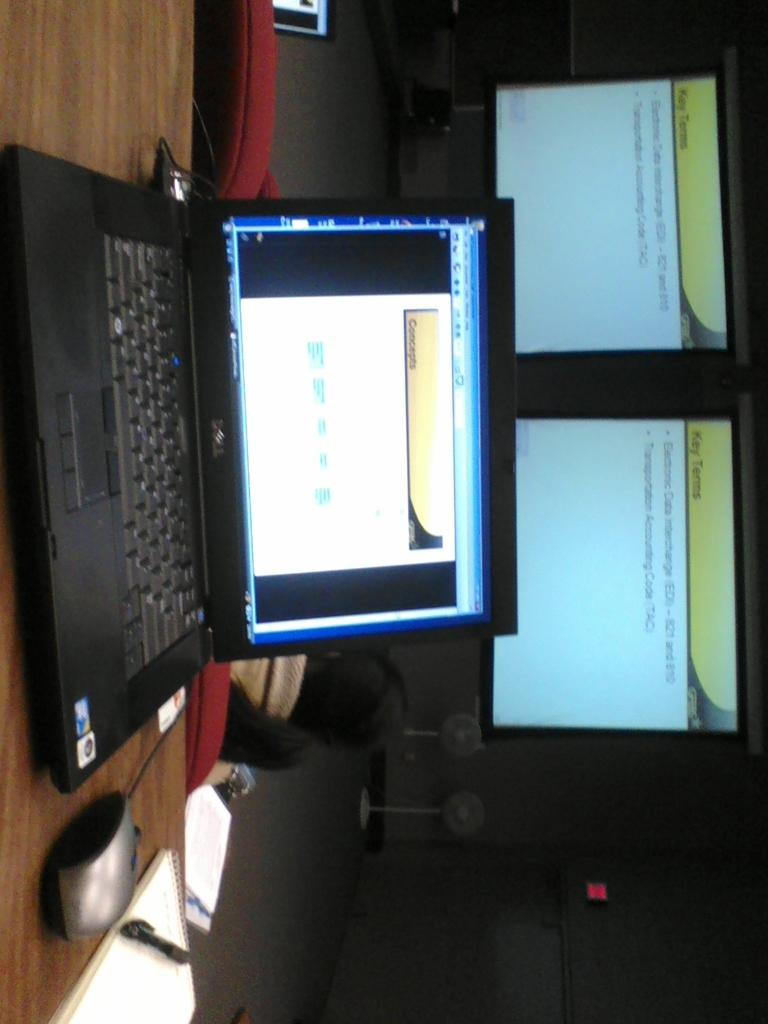Computer-keyboard: (106, 235, 202, 684)
